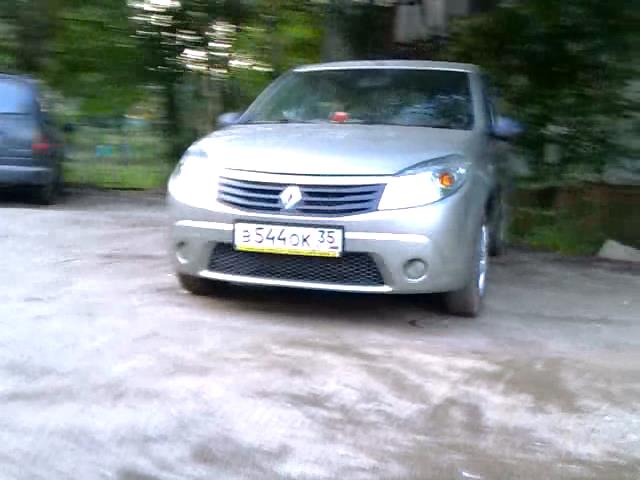car license plate: (232, 216, 346, 260)
